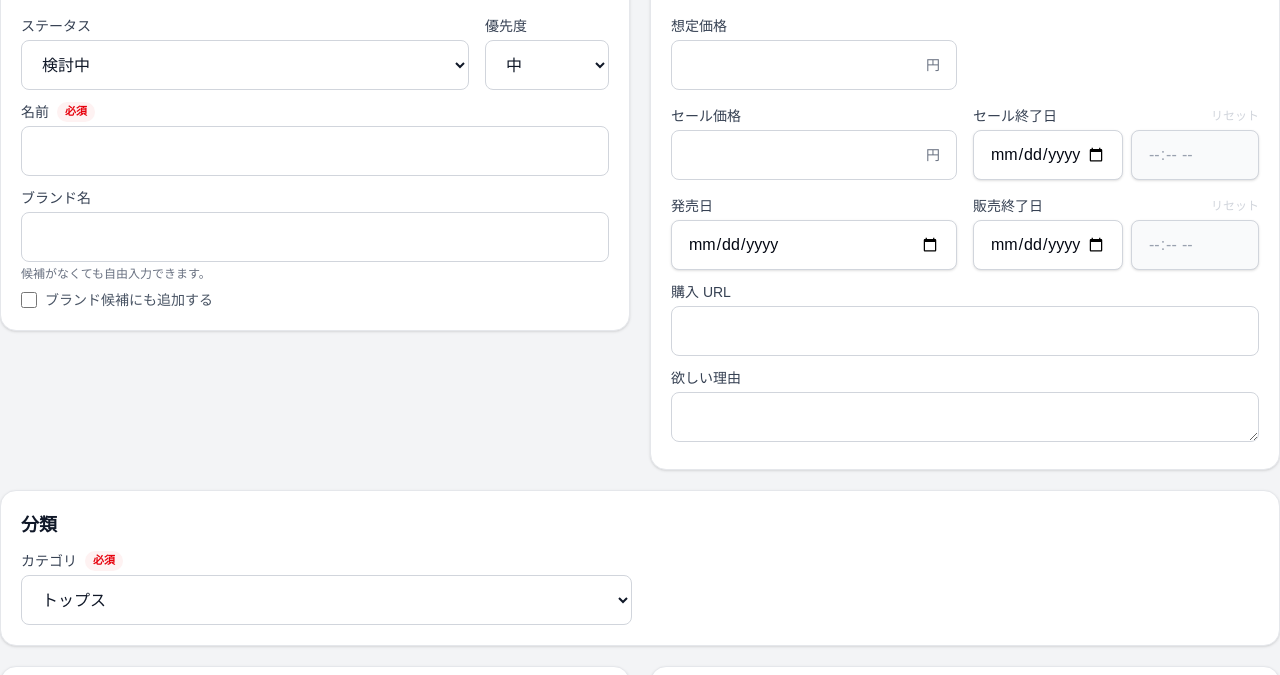
Scenario: 購入検討フォーム › tops では選択肢が1つしかない spec 項目を表示しない
Select "トップス" in the dropdown with id "category_group_id" at (326,600), box [21, 575, 632, 625]
Select "トップス" in the dropdown with id "category_group_id" at (326,600), box [21, 575, 632, 625]
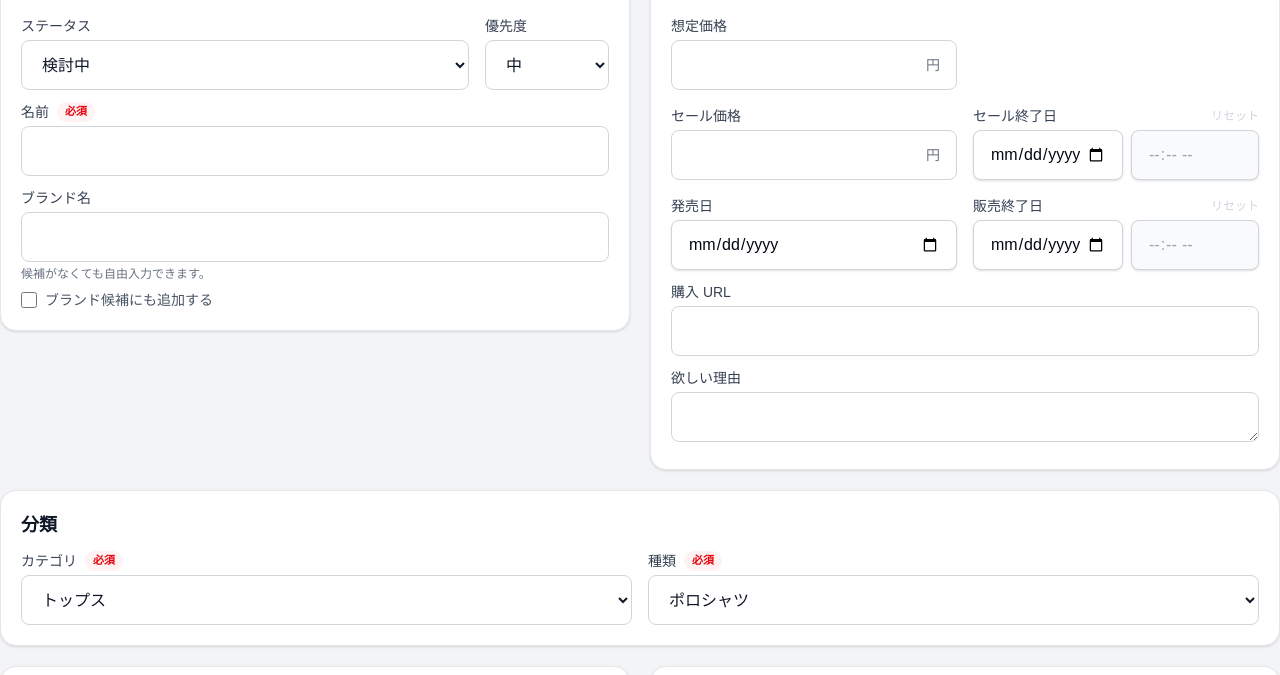
Select "ポロシャツ" in the dropdown with id "category_id" at (954,600), box [648, 575, 1259, 625]
Select "ポロシャツ" in the dropdown with id "category_id" at (954,600), box [648, 575, 1259, 625]
(page scrolled)
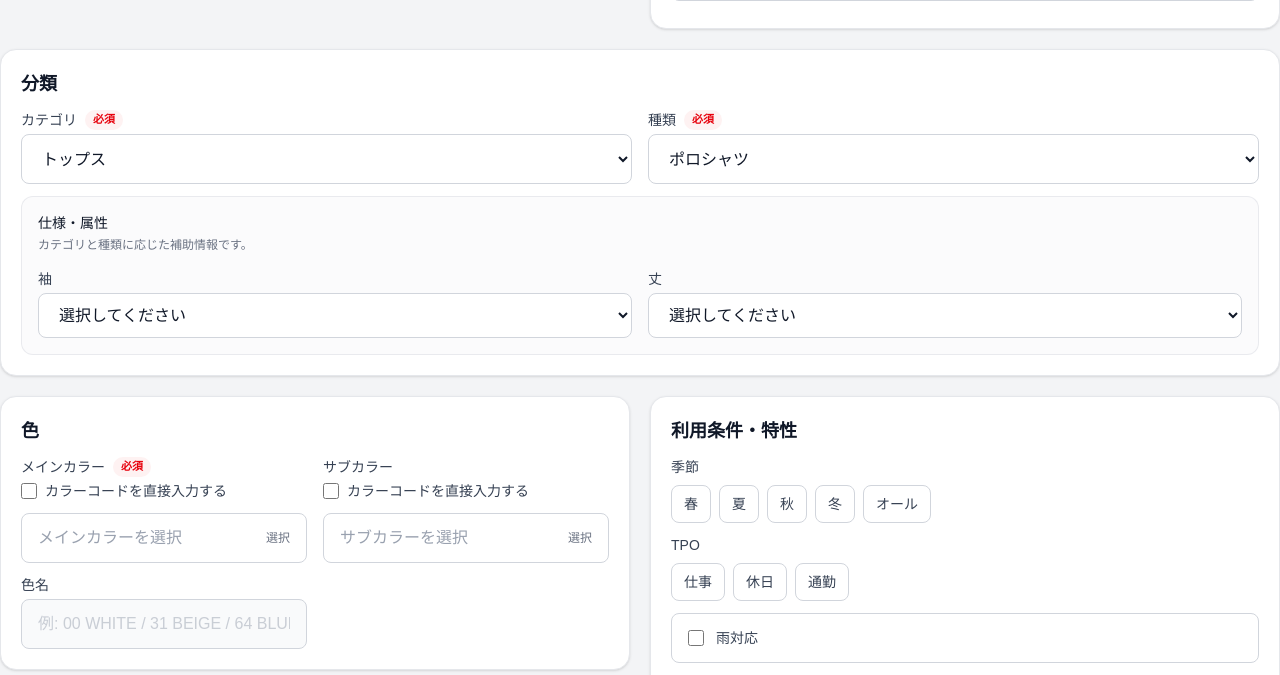
expect the dropdown with id "spec-tops-sleeve" is shown: met, box [38, 293, 632, 338]
expect the dropdown with id "spec-tops-length" is shown: met, box [648, 293, 1242, 338]
